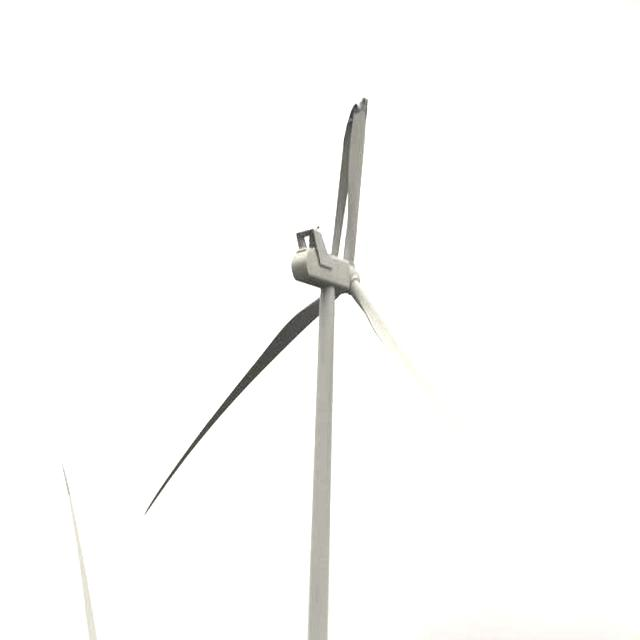crack: (330, 93, 377, 272)
